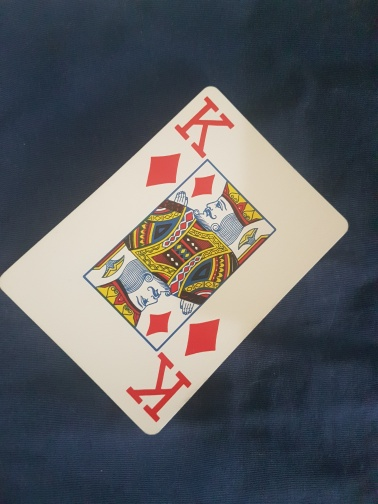king: (1, 84, 349, 436)
